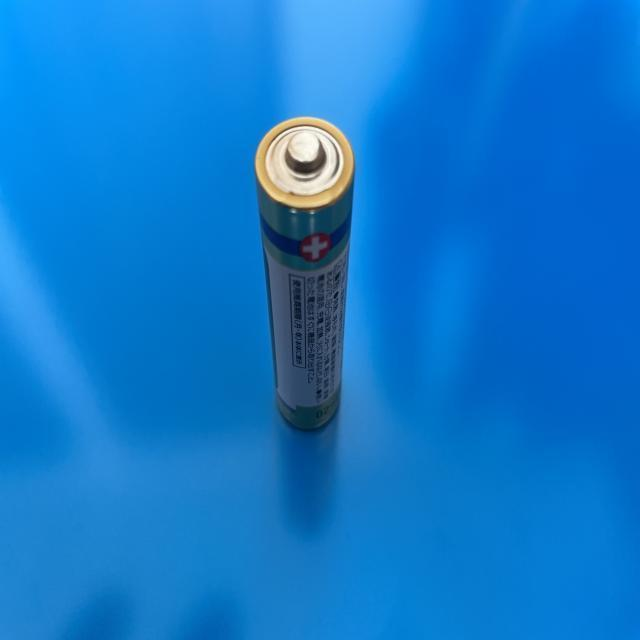AAA: (253, 114, 358, 431)
